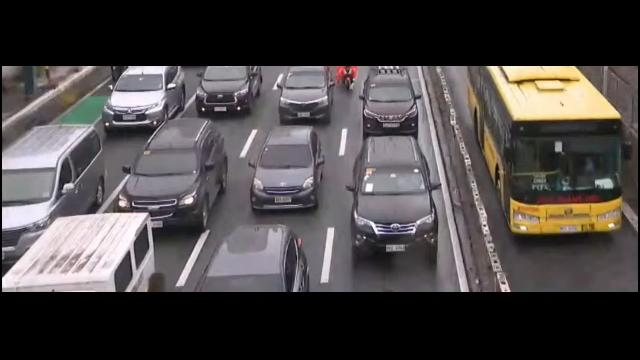bus: (466, 65, 627, 235)
car: (117, 117, 229, 234), (349, 135, 439, 265), (195, 222, 311, 291), (251, 127, 322, 210), (100, 67, 187, 131), (361, 67, 420, 137), (194, 65, 262, 113), (277, 67, 335, 123)
van: (2, 123, 106, 265)
